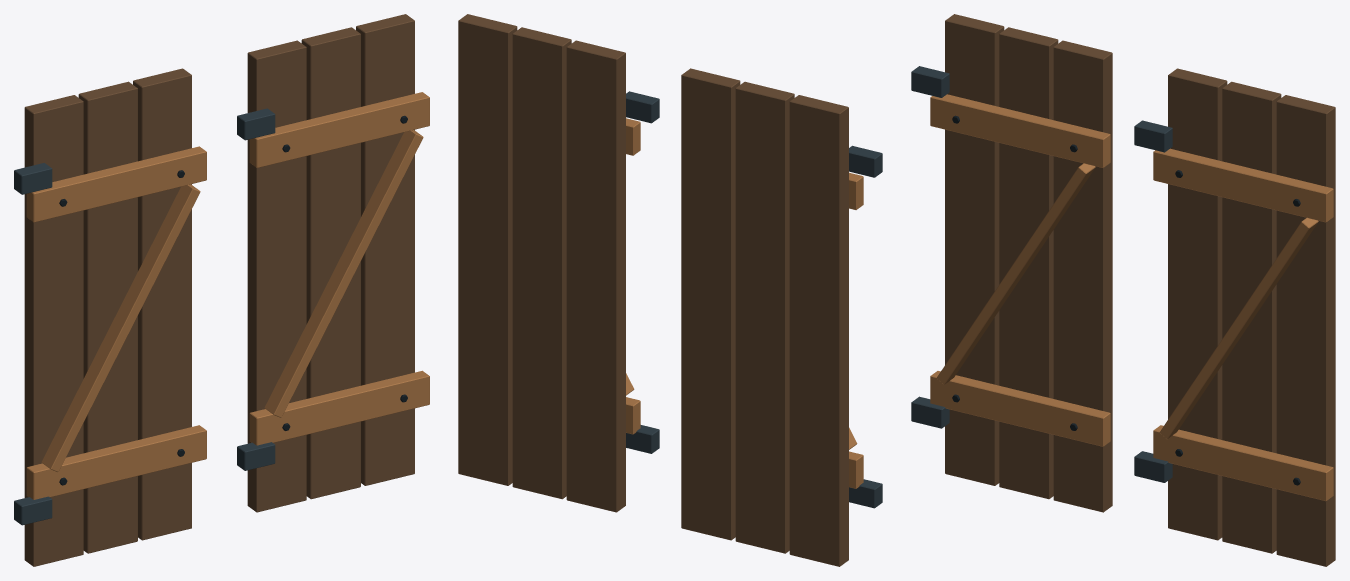
Rendered from b12_board_and_batten_shutters.glb.
3 views of the same model, side by side, from view 1: azimuth 30°, elevation 25°; view 2: azimuth 150°, elevation 25°; view 3: azimuth 330°, elevation 25° (orthographic).
Parts seen in each view (by area): view 1: b12_board_and_batten_shutters; view 2: b12_board_and_batten_shutters; view 3: b12_board_and_batten_shutters.
Boxes of the visible parts, x1=… form: b12_board_and_batten_shutters: x1=14, y1=14, x2=429, y2=566; b12_board_and_batten_shutters: x1=458, y1=14, x2=882, y2=566; b12_board_and_batten_shutters: x1=911, y1=14, x2=1335, y2=566.
Size of the model in its own units: 1.33 by 1.4 by 0.1245.
